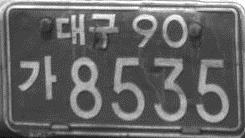0: (162, 12, 188, 49)
3: (151, 56, 187, 122)
5: (195, 57, 231, 123), (110, 56, 145, 121)
8: (68, 54, 103, 120)
9: (131, 12, 159, 47)
가: (17, 53, 58, 101)
대구_O: (53, 11, 120, 49)
